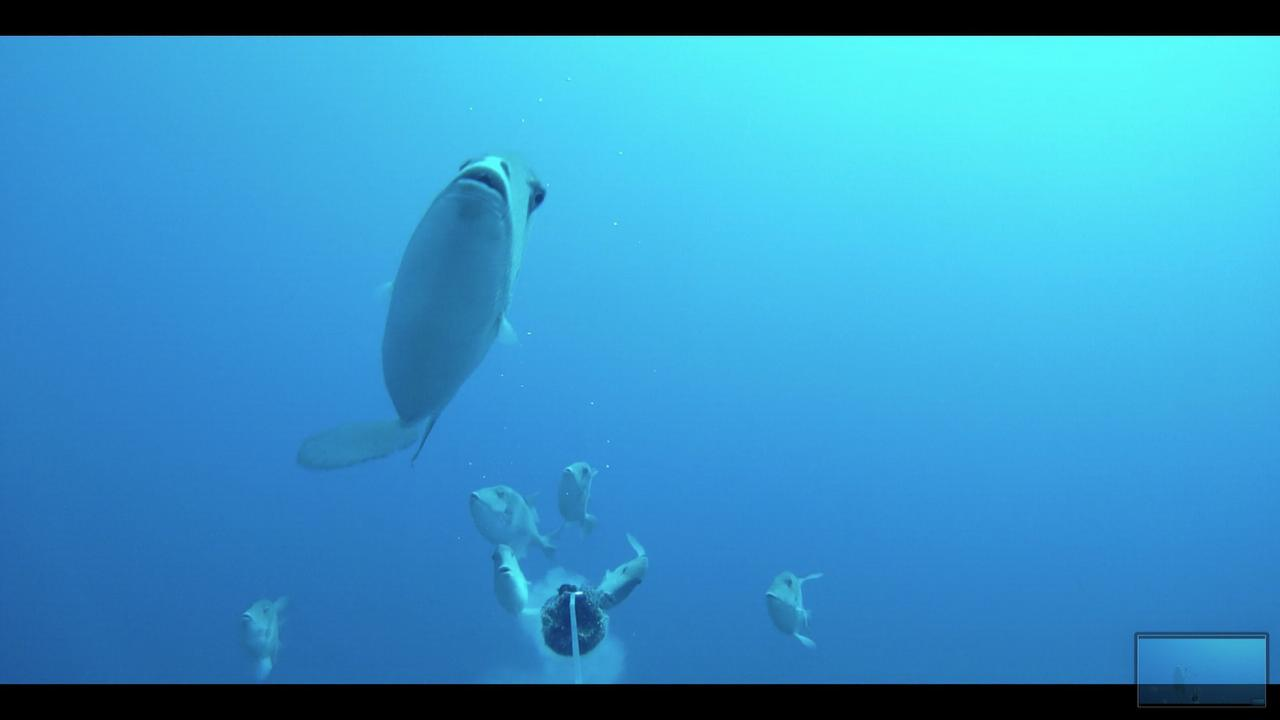balistes: (299, 148, 543, 472), (460, 479, 557, 560), (753, 562, 828, 654), (226, 589, 303, 672), (479, 534, 538, 637), (591, 532, 658, 615), (548, 453, 606, 531)
